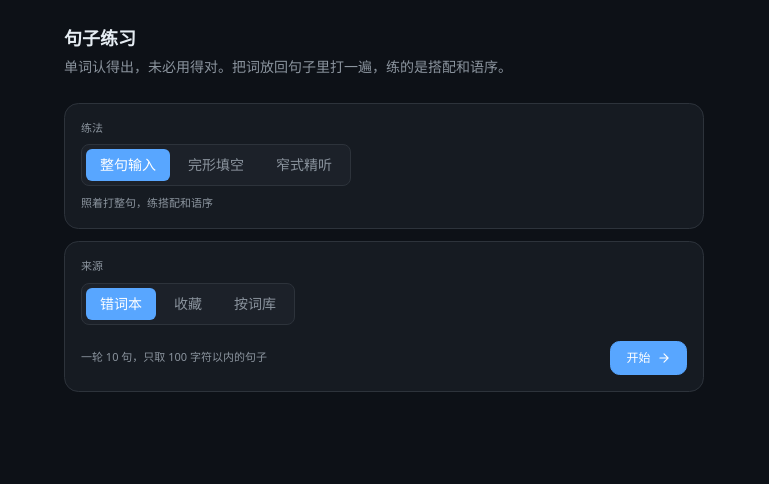
Test case: SentencesPage · 完形模式 › 切换练法会回到选择页，不接着做上一组的下一句
Click the button "按词库": (255, 304) 220,288 -> 290,320
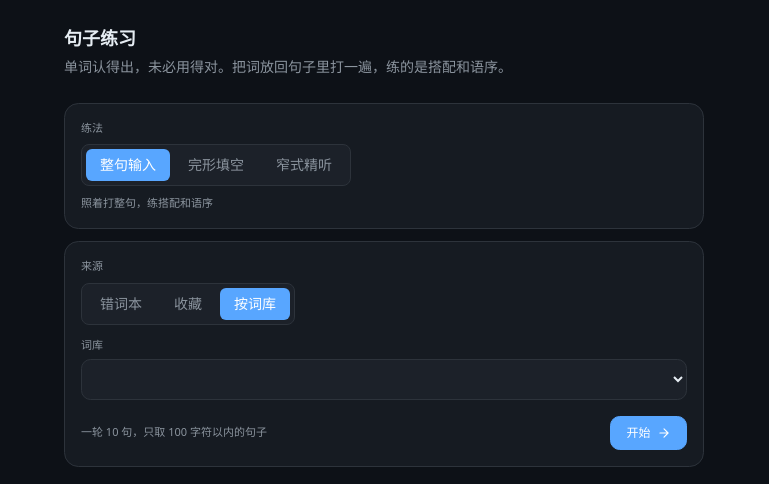
Click the button "完形填空": (216, 165) 174,149 -> 258,181
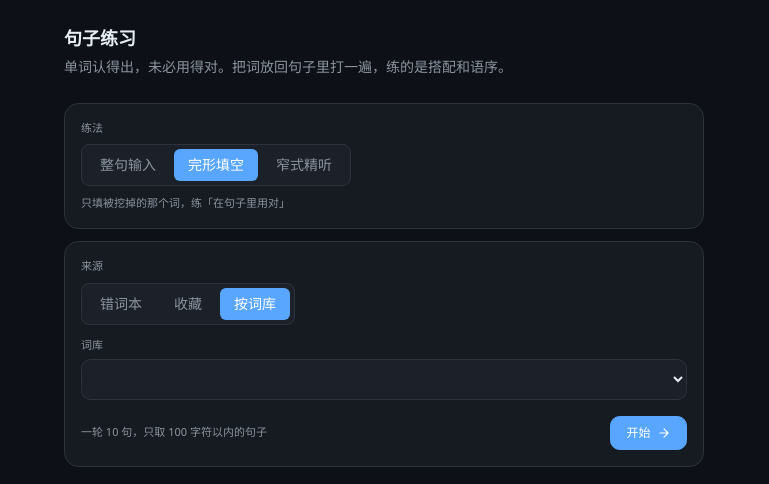
Click the button "开始": (649, 433) 610,416 -> 687,450
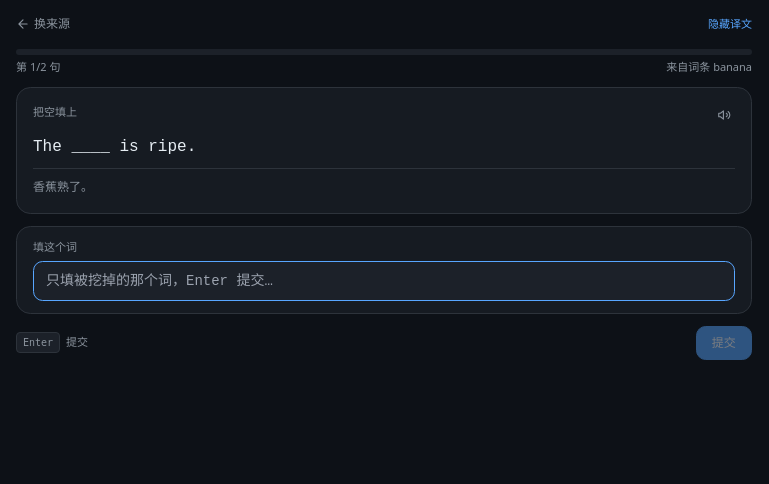
Expected: the text "第 1/2 句" is shown, 16,58 -> 60,75
Click the button "换来源": (43, 24) 16,16 -> 70,32
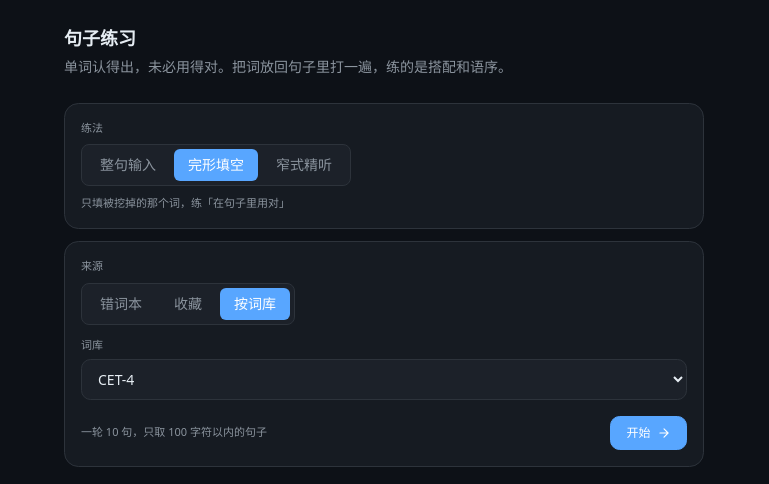
Expected: the heading "句子练习" is shown, 64,26 -> 136,50
Expected: the button "整句输入" is shown, 86,149 -> 170,181
